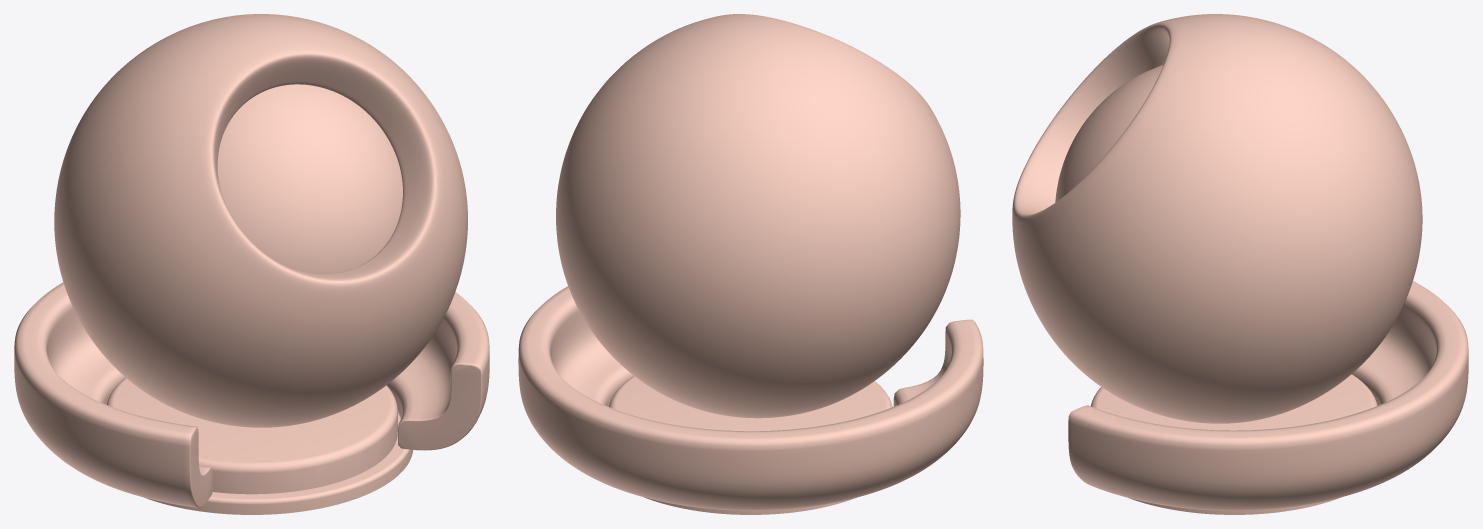
File: standard_surface_copper.mtlx.glb
The picture shows the model from 3 angles, left to right: view 1: azimuth 30°, elevation 25°; view 2: azimuth 150°, elevation 25°; view 3: azimuth 270°, elevation 25°; orthographic projection. The views are drawn at different scales.
Parts seen in each view (by area): view 1: Preview_Mesh, Calibration_Mesh; view 2: Preview_Mesh, Calibration_Mesh; view 3: Preview_Mesh, Calibration_Mesh.
Part boxes in pixels (x1,y1,x2,y2): Preview_Mesh: (14,14,489,507); Calibration_Mesh: (106,84,413,514); Preview_Mesh: (518,14,983,510); Calibration_Mesh: (609,376,892,514); Preview_Mesh: (1012,14,1468,510); Calibration_Mesh: (1055,65,1377,514).
Bounding box in the file's own units: 2.14 × 2.09 × 2.08.
